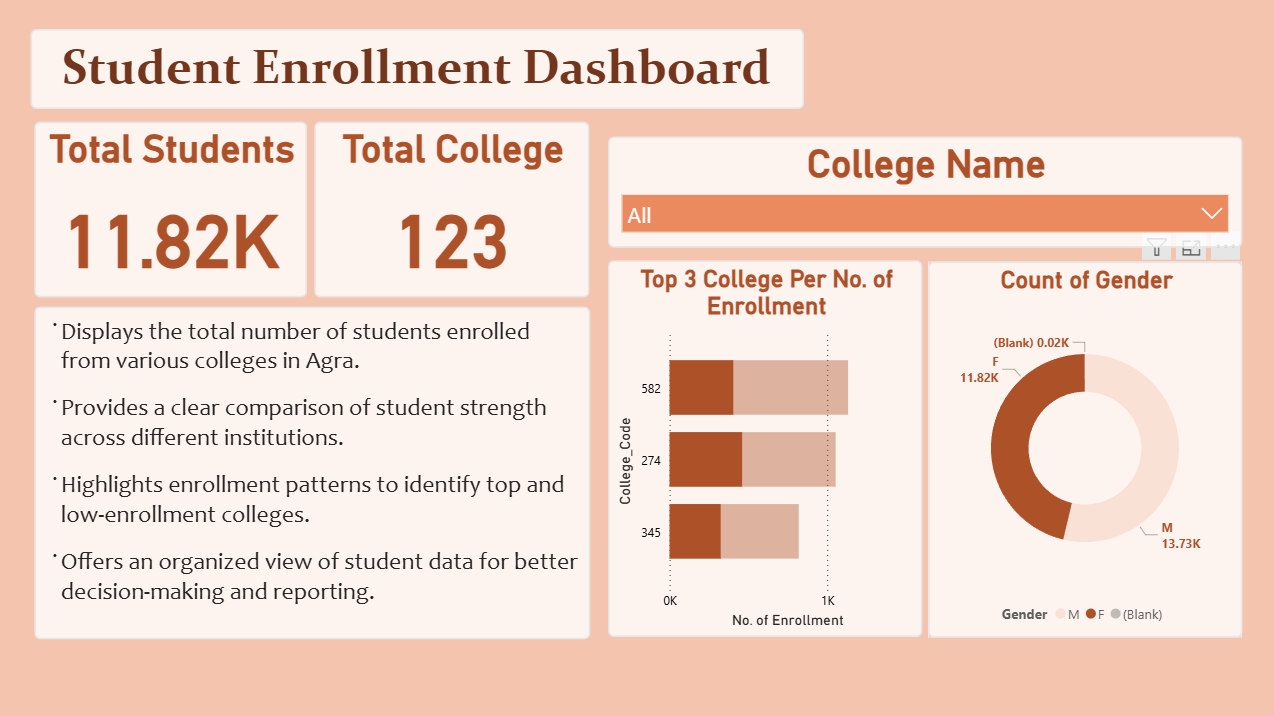

This screenshot's page, from the dashboard's own definition file:
{"tool":"powerbi","page":{"name":"Page 1","canvas":[1280,720],"ordinal":0},"visuals":[{"type":"donutChart","title":"Count of Gender","fields":{"Category":["Sheet1.Gender"],"Y":["CountNonNull(Sheet1.Name)"]},"box":[930,262.9,314.3,375.7],"z":0},{"type":"card","title":"Total Students","fields":{"Values":["CountNonNull(Sheet1.Name)"]},"box":[36.2,123.1,272.7,176.1],"z":1000},{"type":"card","title":"Total College","fields":{"Values":["Count(Sheet1.College_Code)"]},"box":[316.1,123.1,275.1,176.1],"z":2000},{"type":"barChart","title":"Top 3 College Per No. of Enrollment","fields":{"Y":["CountNonNull(Sheet1.Name)"],"Category":["Sheet1.College_Code"]},"box":[610,261.4,314.3,377.1],"z":3000},{"type":"slicer","title":"College Name","fields":{"Values":["Sheet1.College_Name"]},"box":[610,137.1,634.3,111.4],"z":4000},{"type":"textbox","box":[32.2,30,773.3,80],"z":5000},{"type":"textbox","box":[35.7,307.1,555.7,332.9],"z":6000}]}

Visuals, with their boxes in screenshot pixels (x1, y1, x2, y2), scaled from the page's 1280x720 canvas onto the 1274x716 screenshot:
"Count of Gender" donutChart: (926, 261, 1238, 635)
"Total Students" card: (36, 122, 307, 298)
"Total College" card: (315, 122, 588, 298)
"Top 3 College Per No. of Enrollment" barChart: (607, 260, 920, 635)
"College Name" slicer: (607, 136, 1238, 247)
textbox: (32, 30, 802, 109)
textbox: (36, 305, 589, 636)
